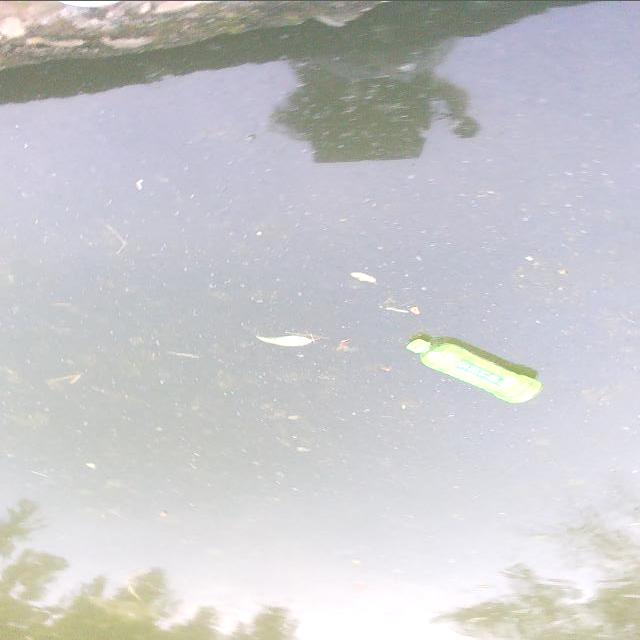bottle: (384, 320, 554, 420)
